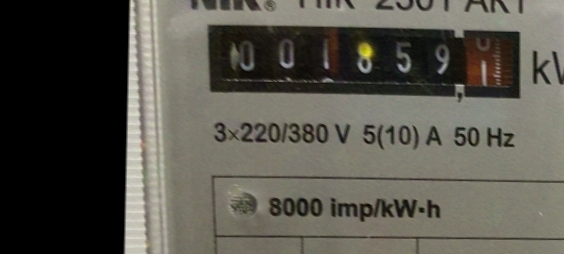0: (234, 38, 254, 74), (274, 37, 294, 70)
1: (317, 36, 329, 72), (474, 58, 487, 88)
5: (391, 39, 411, 75)
8: (352, 40, 372, 76)
9: (429, 42, 449, 77)
screen: (193, 13, 530, 110)
